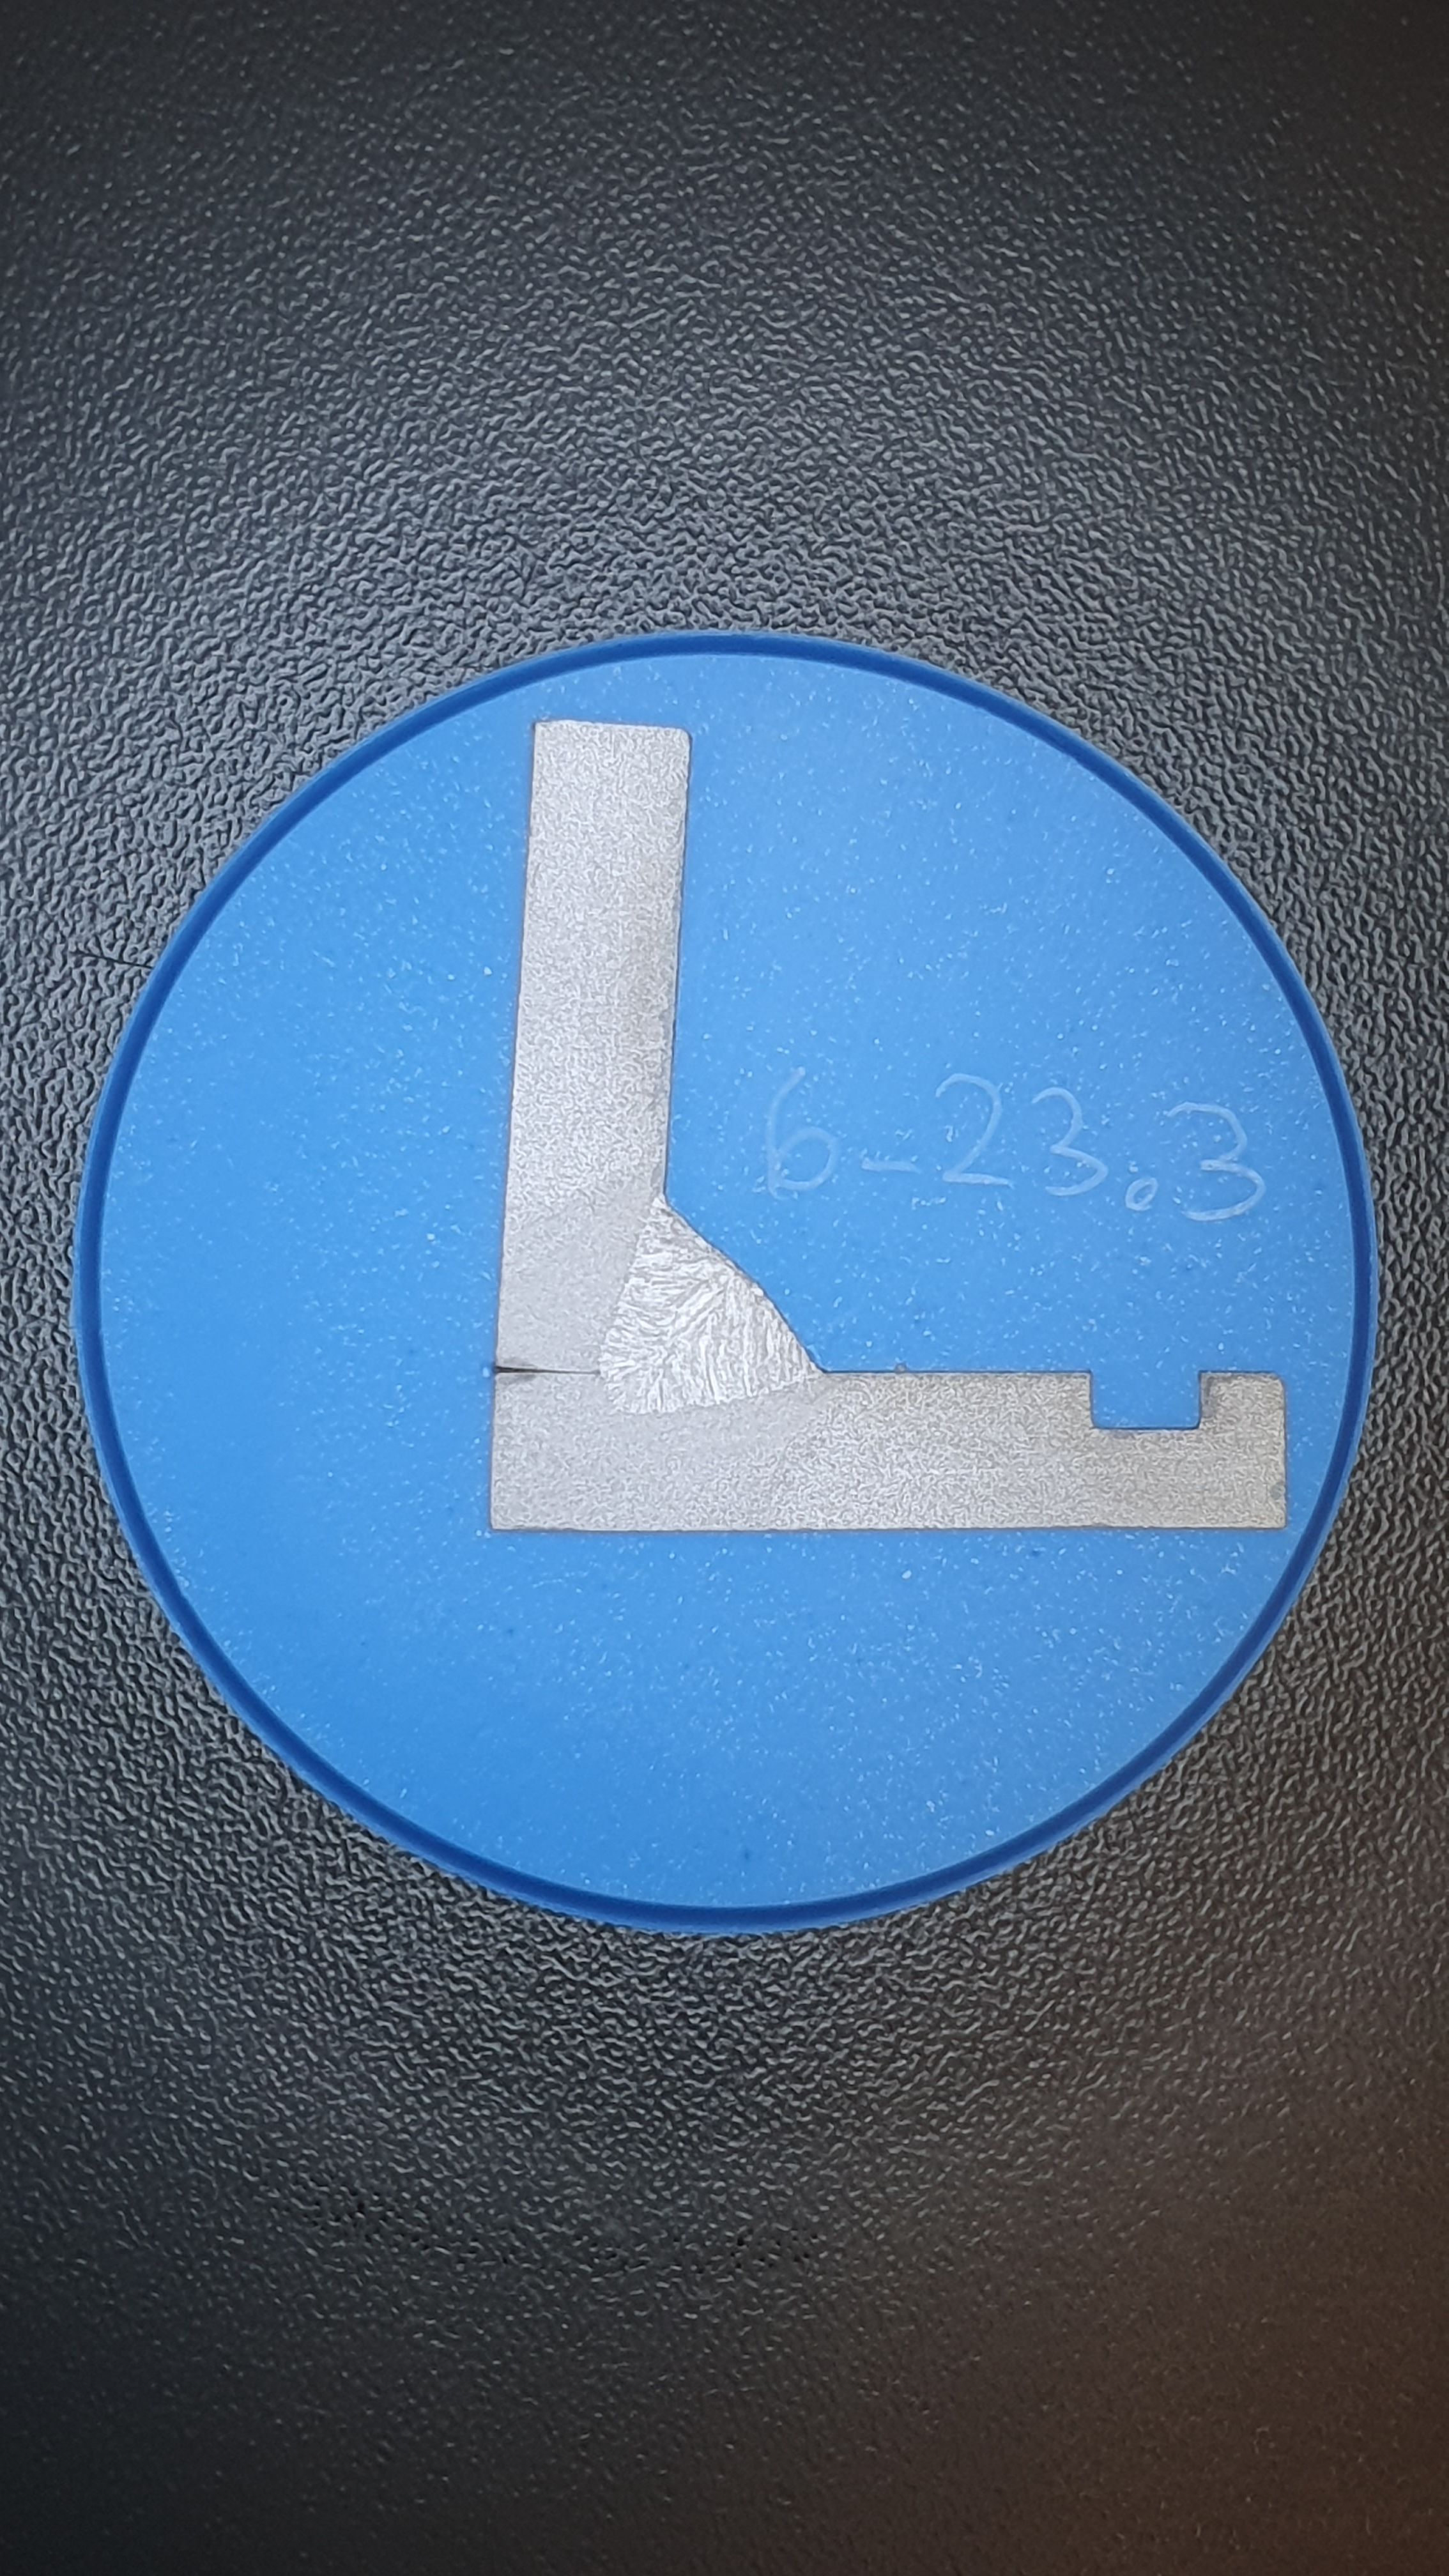Fusion: (597, 1197, 821, 1414)
Hintergrund: (102, 652, 1356, 1908)
Metall: (490, 719, 1287, 1532)
Nebenbereich: (512, 1172, 842, 1476)
